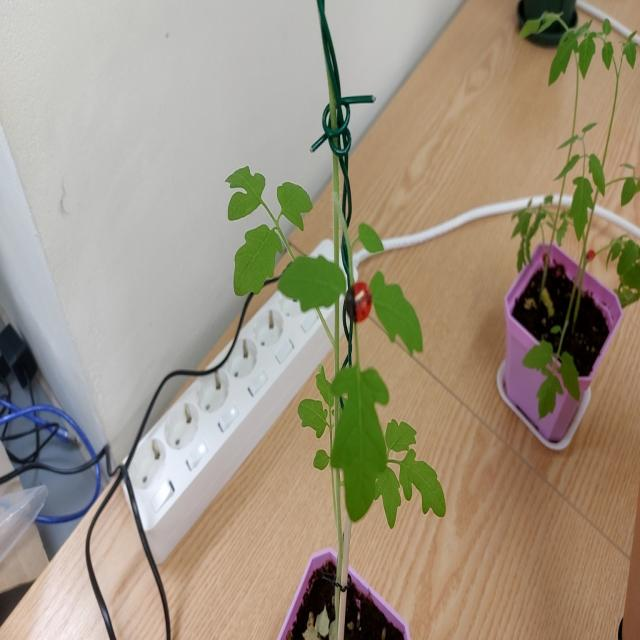bug: (342, 273, 375, 332), (572, 239, 600, 268)
